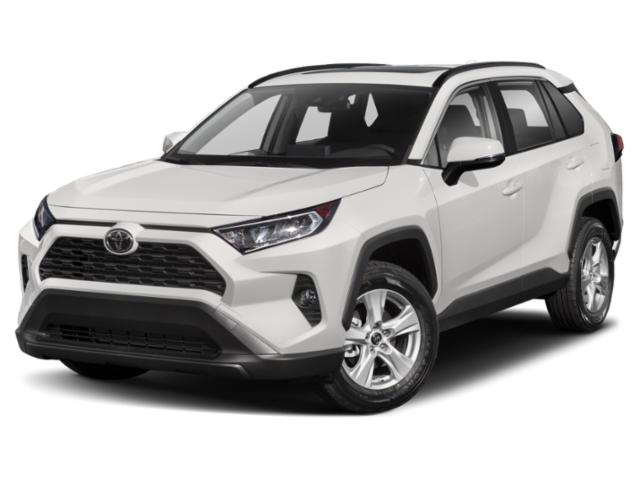Toyota RAV-4: (16, 61, 623, 415)
